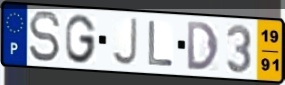3: (225, 22, 254, 75)
D: (185, 20, 221, 72)
G: (64, 13, 98, 65)
J: (110, 16, 139, 67)
L: (147, 19, 175, 68)
S: (27, 9, 62, 64)
